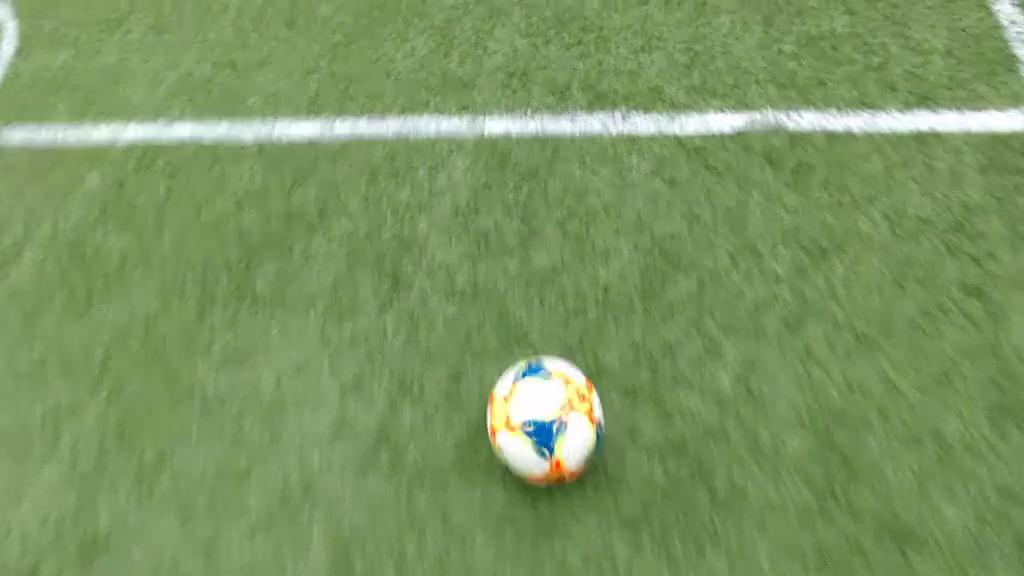ball: (487, 356, 601, 486)
